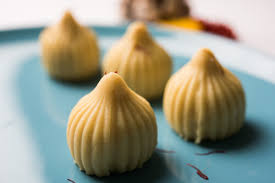modak: (163, 40, 254, 152), (74, 64, 159, 179), (36, 5, 116, 85), (108, 18, 177, 102)
